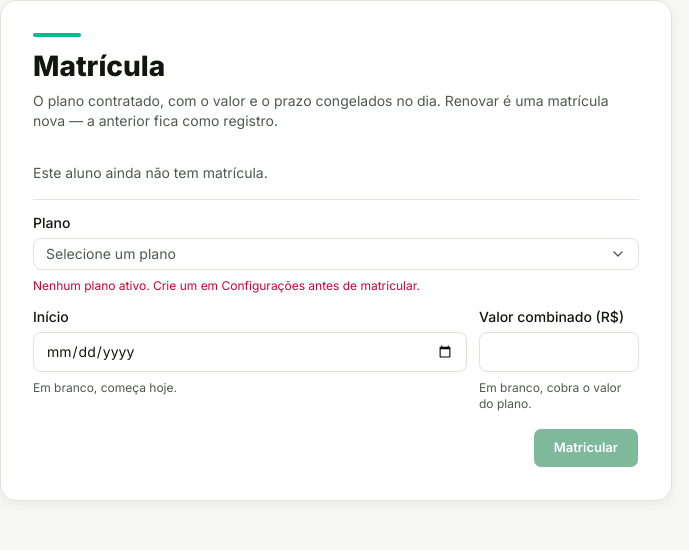
Test case: MatriculaDoAluno › `CONTRATO_NAO_ACEITO` manda pedir ao ALUNO
Click the dropdown labelled "plano": (111, 254) [33,238,639,270]
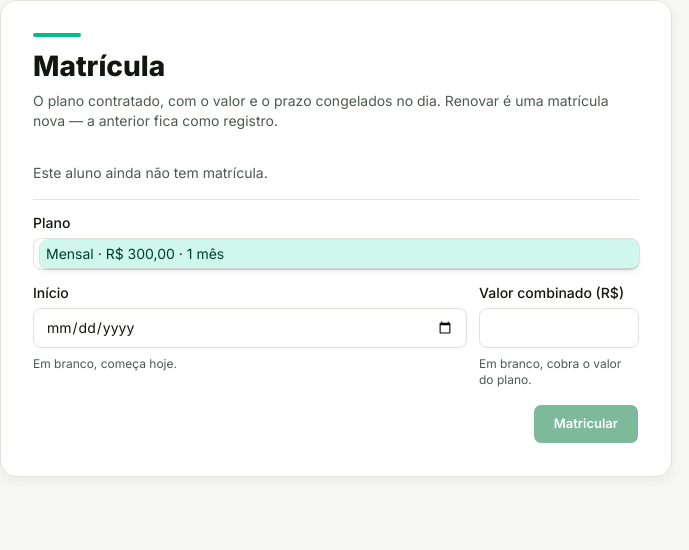
Click the option "Mensal · R$ 300,00 · 1 mês": (70, 254) [40,240,639,268]
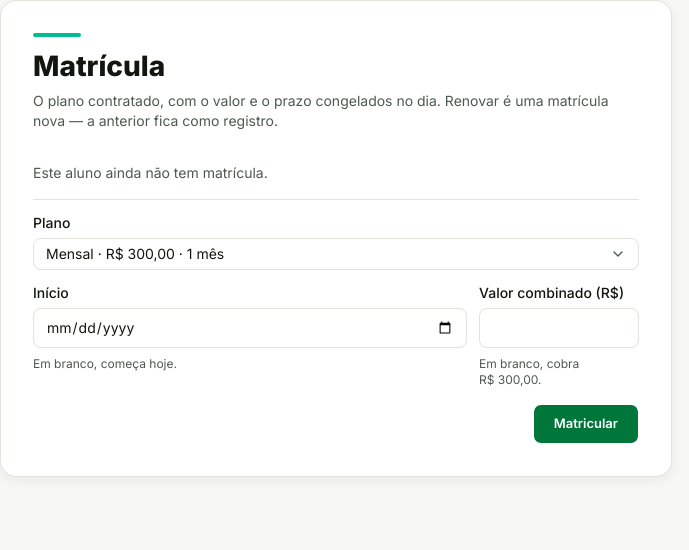
Click the button "Matricular": (586, 424) [533,404,639,444]
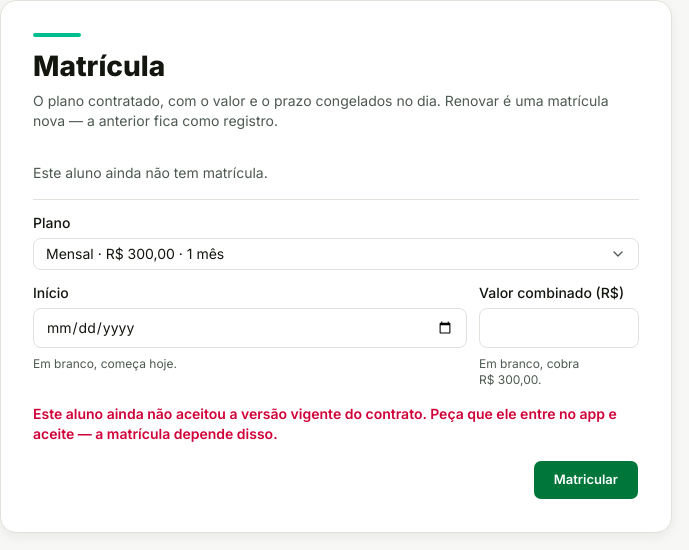
Expected: the text "Peça que ele entre no app e aceite" is shown, [33,405,617,442]
